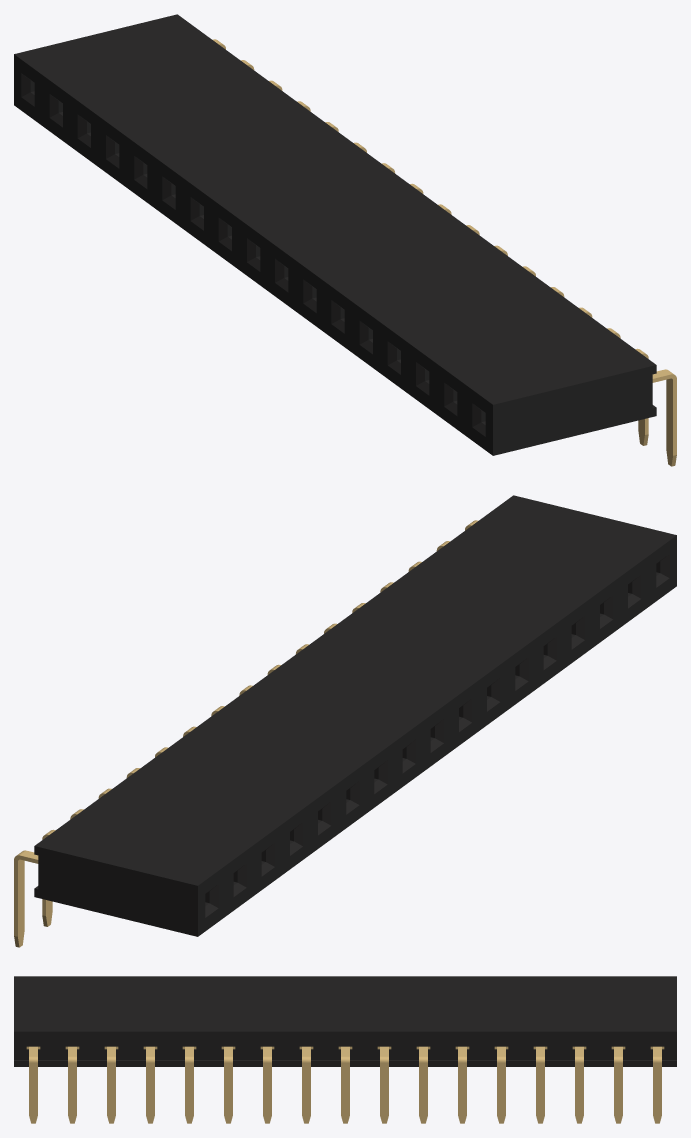
The model's file is kc-pinsocket_1x17_p2.54mm_horizontal.glb.
3 views of the same model, one above another, from view 1: azimuth 30°, elevation 25°; view 2: azimuth 150°, elevation 25°; view 3: azimuth 270°, elevation 25° (orthographic). The views are drawn at different scales.
Visible parts, largest first — view 1: 0_0_0_0, 0.75_0.5_0.25_0.9; view 2: 0_0_0_0, 0.75_0.5_0.25_0.9; view 3: 0_0_0_0, 0.75_0.5_0.25_0.9.
Boxes of the visible parts, bbox=[...] form: 0_0_0_0: bbox=[14, 14, 656, 455]; 0.75_0.5_0.25_0.9: bbox=[212, 39, 676, 466]; 0_0_0_0: bbox=[34, 495, 676, 936]; 0.75_0.5_0.25_0.9: bbox=[14, 520, 478, 947]; 0_0_0_0: bbox=[14, 976, 676, 1066]; 0.75_0.5_0.25_0.9: bbox=[26, 1046, 664, 1123].
Size of the model in its own units: 1.01 by 0.5841 by 4.32.
